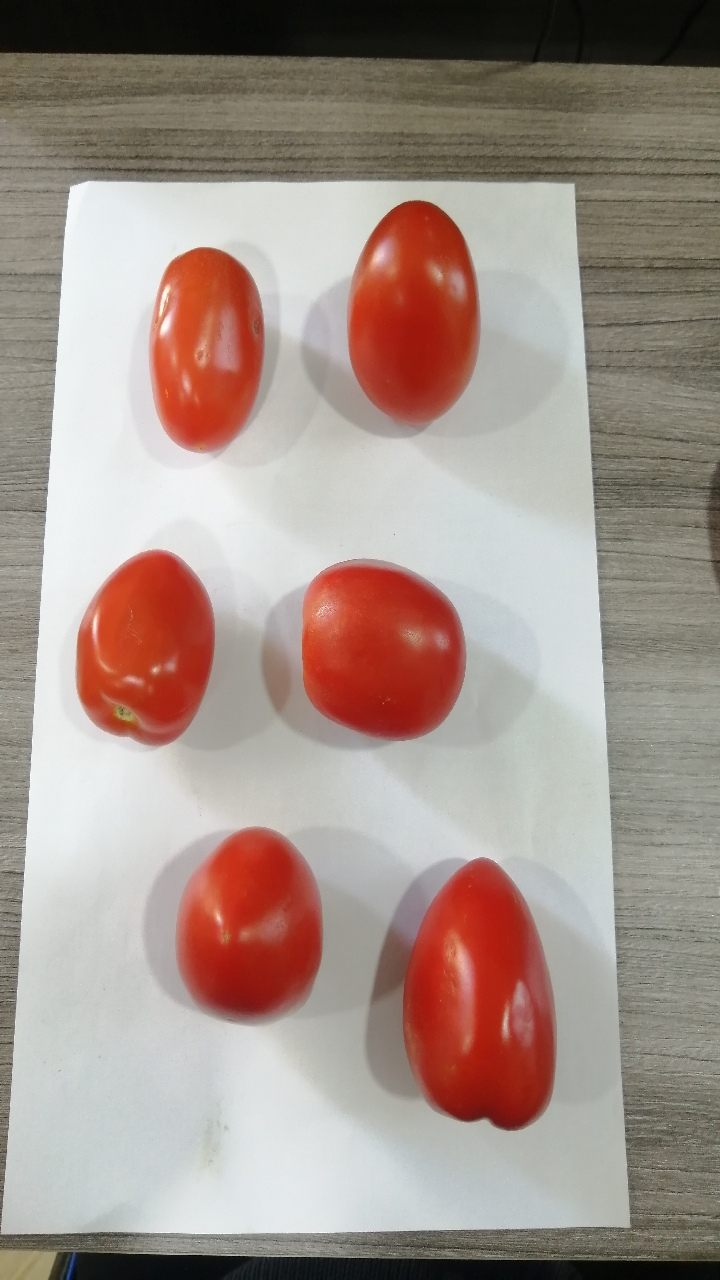tomateRojo: (398, 845, 571, 1146), (277, 529, 481, 755), (326, 183, 500, 437), (152, 812, 344, 1040), (123, 235, 283, 469), (71, 534, 231, 759)
